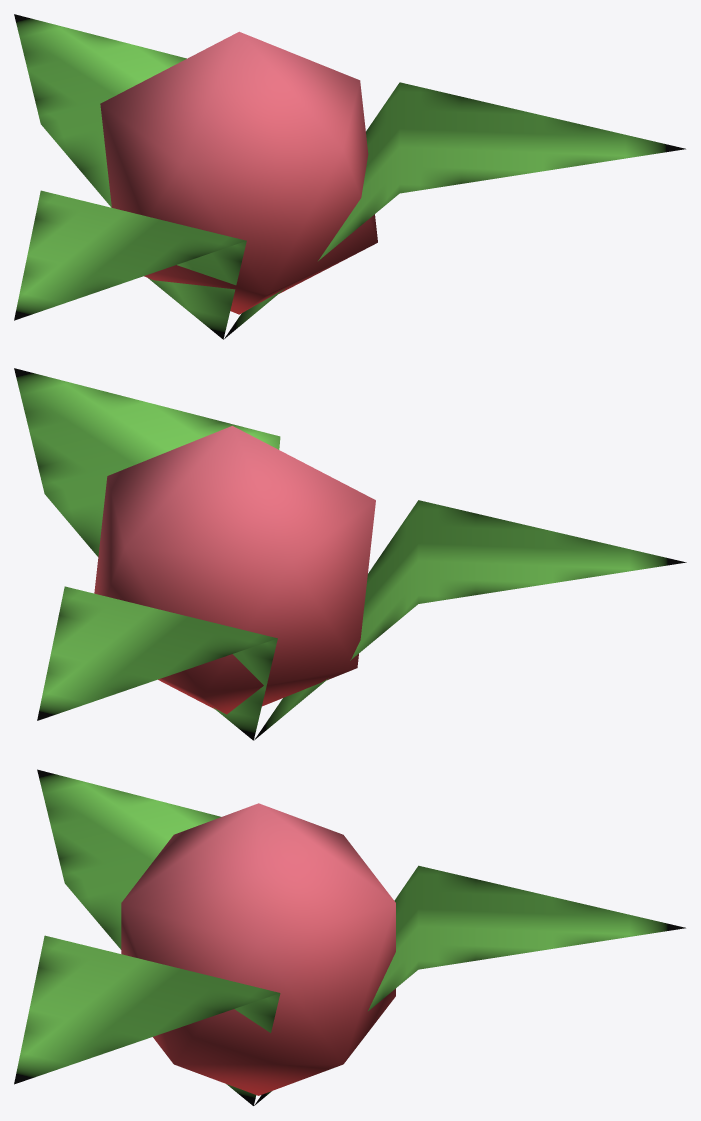
Rendered from deco_fruitRedLeaves.FBX.
The picture shows the model from 3 angles, top to bottom: view 1: azimuth 30°, elevation 25°; view 2: azimuth 150°, elevation 25°; view 3: azimuth 270°, elevation 25°; orthographic projection. The views are drawn at different scales.
Parts seen in each view (by area): view 1: deco_fruitRedLeaves; view 2: deco_fruitRedLeaves; view 3: deco_fruitRedLeaves.
Part boxes in pixels (x1,y1,x2,y2): deco_fruitRedLeaves: (14, 14, 685, 339); deco_fruitRedLeaves: (14, 368, 686, 740); deco_fruitRedLeaves: (14, 769, 685, 1105).
Bounding box in the file's own units: 0.7583 × 0.3307 × 0.6457.
1 material, 1 textured.
